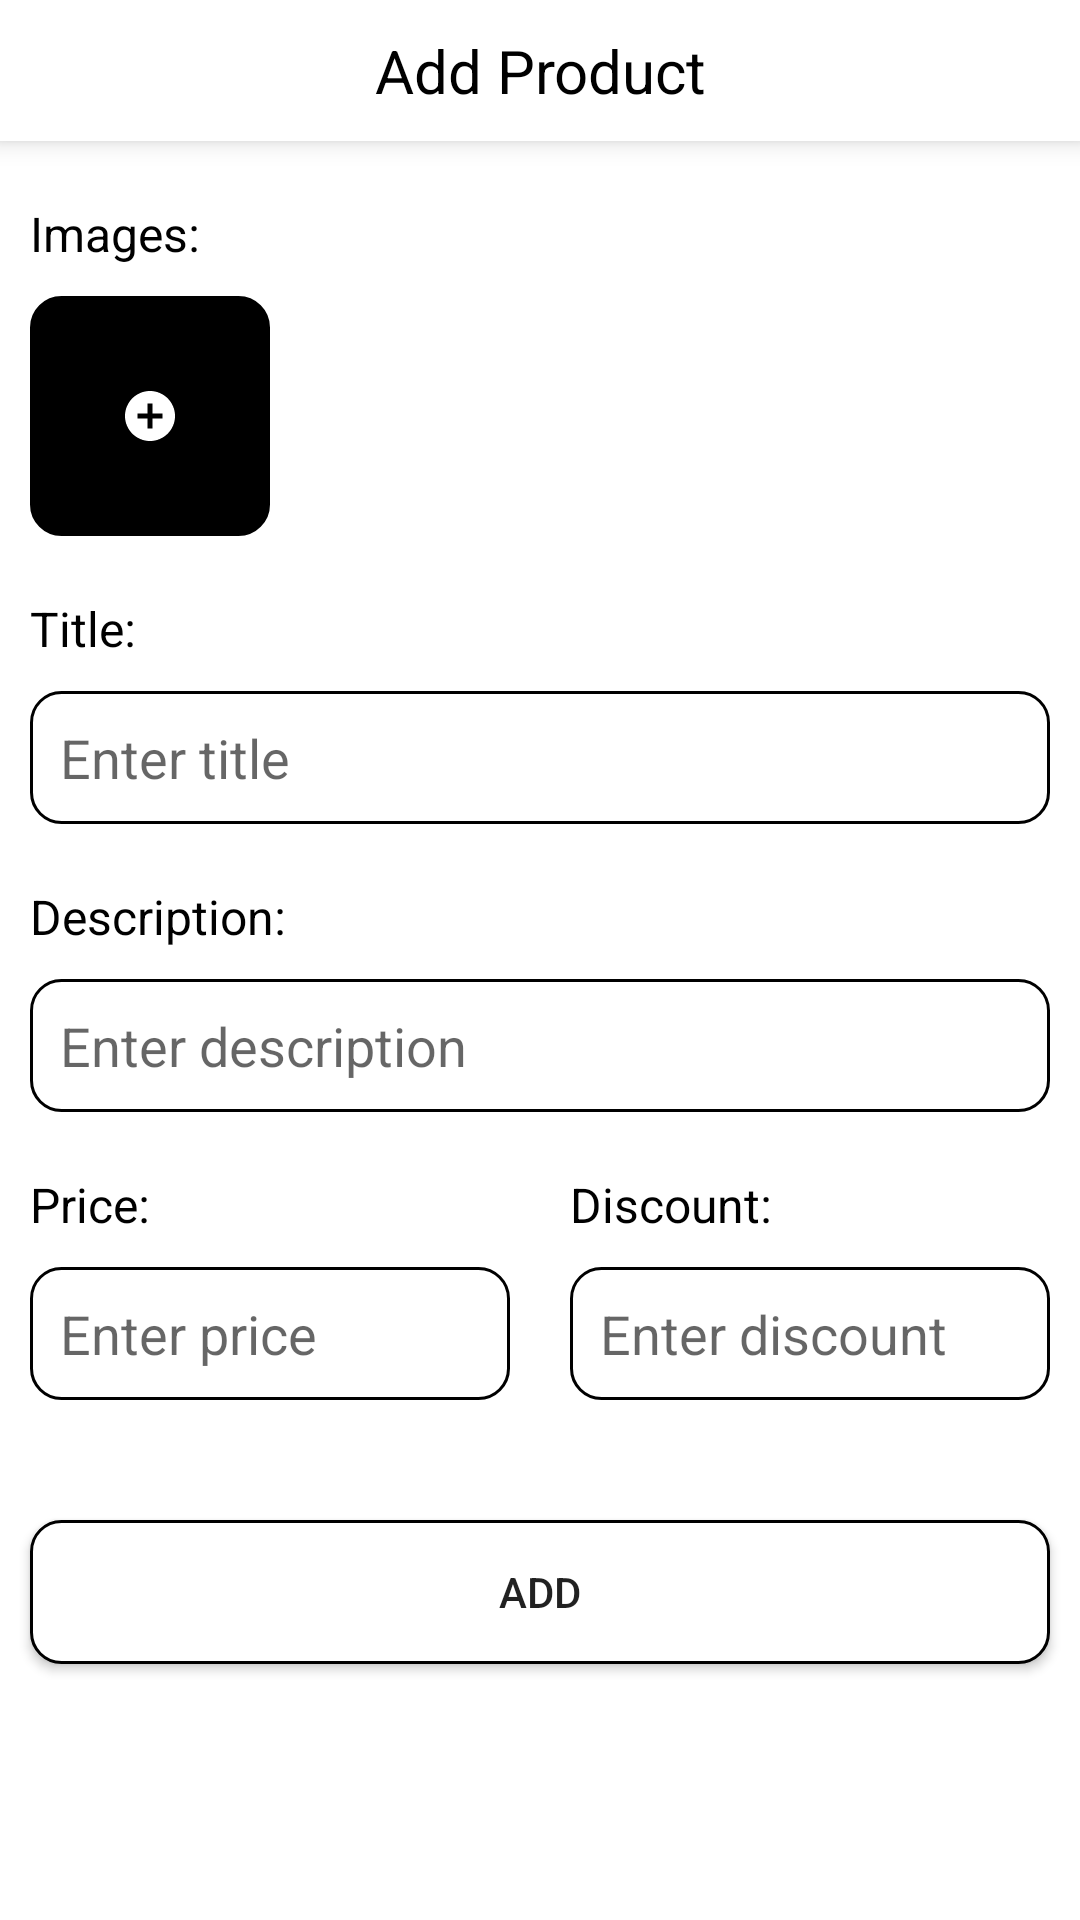

Icons on this 1080px x 1920px Android screen, each with the point to tap as (x,y):
add circle: (150,416)
